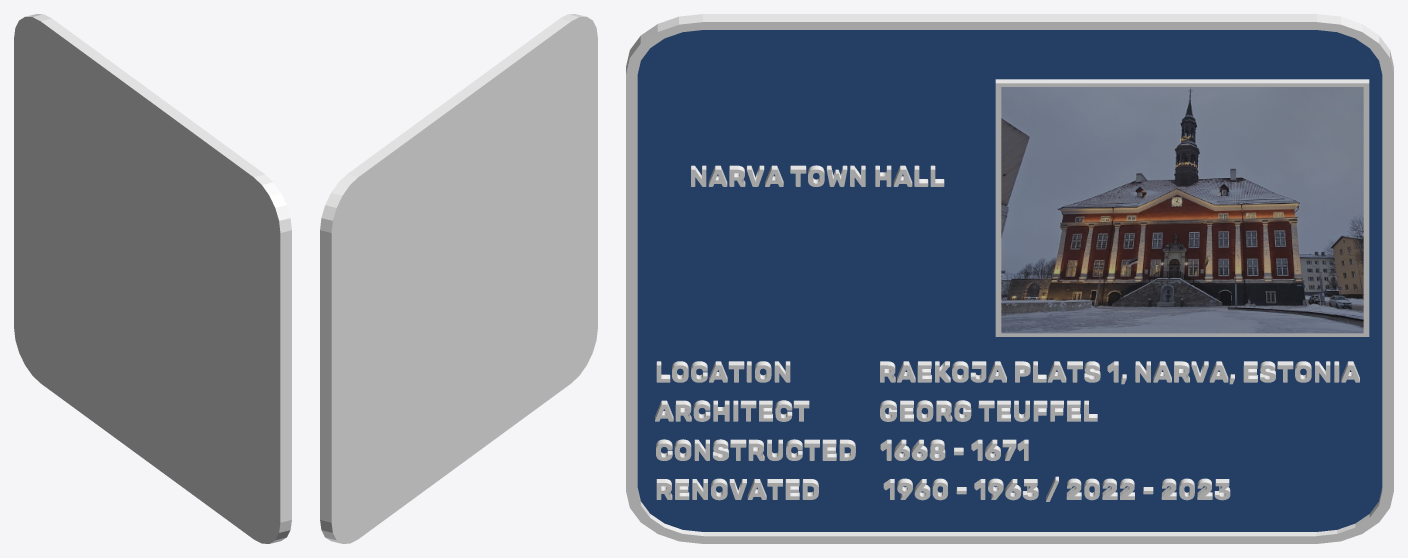
The model's file is Infobox_TownHall.fbx.
The picture shows the model from 3 angles, left to right: view 1: azimuth 30°, elevation 25°; view 2: azimuth 150°, elevation 25°; view 3: azimuth 270°, elevation 25°; orthographic projection. The views are drawn at different scales.
Parts seen in each view (by area): view 1: Background; view 2: Background; view 3: Background, PhotoBox, Text.
Boxes of the visible parts, x1,y1,x2,y2 form: Background: (14, 14, 291, 543); Background: (320, 14, 597, 543); Background: (626, 14, 1393, 543); PhotoBox: (995, 79, 1369, 336); Text: (655, 165, 1359, 501).
Size of the model in its own units: 10 by 300 by 400.
